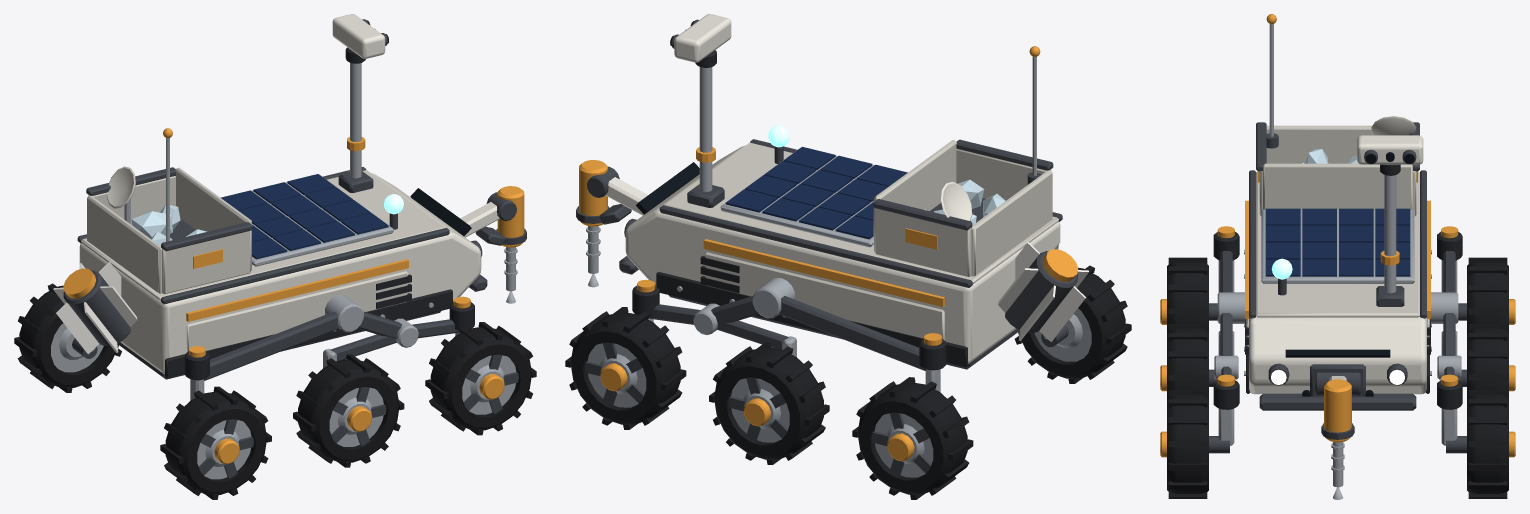
File: rover_v4.glb
3 views of the same model, side by side, from view 1: azimuth 30°, elevation 25°; view 2: azimuth 150°, elevation 25°; view 3: azimuth 270°, elevation 25° (orthographic). The views are drawn at different scales.
Parts seen in each view (by area): view 1: body, wheel_4, wheel_5, wheel_3, wheel_2, drill; view 2: body, wheel_2, wheel_0, wheel_1, wheel_5, drill; view 3: body, wheel_0, wheel_3, drill, wheel_1, wheel_4, wheel_2, wheel_5.
Boxes of the visible parts, x1,y1,x2,y2 form: body: [53, 14, 487, 400]; wheel_4: [293, 354, 404, 467]; wheel_5: [160, 386, 271, 499]; wheel_3: [425, 322, 536, 435]; wheel_2: [14, 283, 121, 392]; drill: [460, 186, 526, 303]; body: [619, 14, 1088, 392]; wheel_2: [852, 377, 973, 499]; wheel_0: [565, 307, 686, 429]; wheel_1: [709, 342, 829, 464]; wheel_5: [1014, 265, 1131, 383]; drill: [576, 160, 647, 287]; body: [1209, 14, 1466, 453]; wheel_0: [1467, 390, 1515, 498]; wheel_3: [1160, 390, 1208, 498]; drill: [1315, 372, 1360, 499]; wheel_1: [1467, 324, 1515, 397]; wheel_4: [1160, 324, 1208, 397]; wheel_2: [1467, 257, 1515, 331]; wheel_5: [1160, 257, 1208, 331].
Size of the model in its own units: 3.18 by 2.17 by 2.04.
